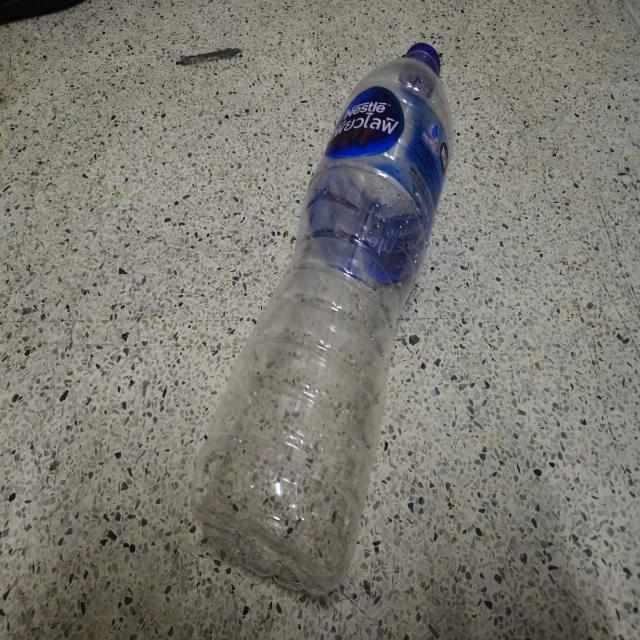bottle: (191, 42, 452, 595)
